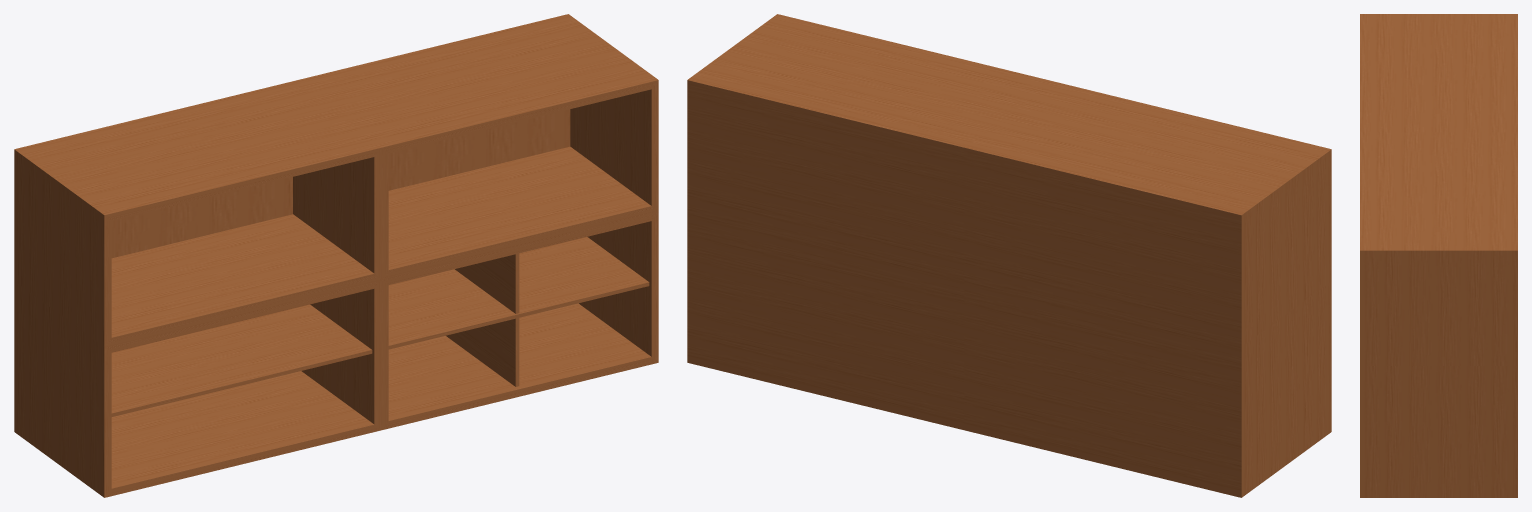
The model's file is Shelving_A.FBX.
3 renders of one model, left to right at view 1: azimuth 30°, elevation 25°; view 2: azimuth 150°, elevation 25°; view 3: azimuth 270°, elevation 25°, orthographic. The views are drawn at different scales.
Parts seen in each view (by area): view 1: Wall_Shelving; view 2: Wall_Shelving; view 3: Wall_Shelving.
Part boxes in pixels (box(x1,y1,x2,y2)): Wall_Shelving: box(14, 14, 658, 497); Wall_Shelving: box(687, 14, 1331, 497); Wall_Shelving: box(1360, 14, 1517, 497).
Bounding box in the file's own units: 390 × 190 × 110.
